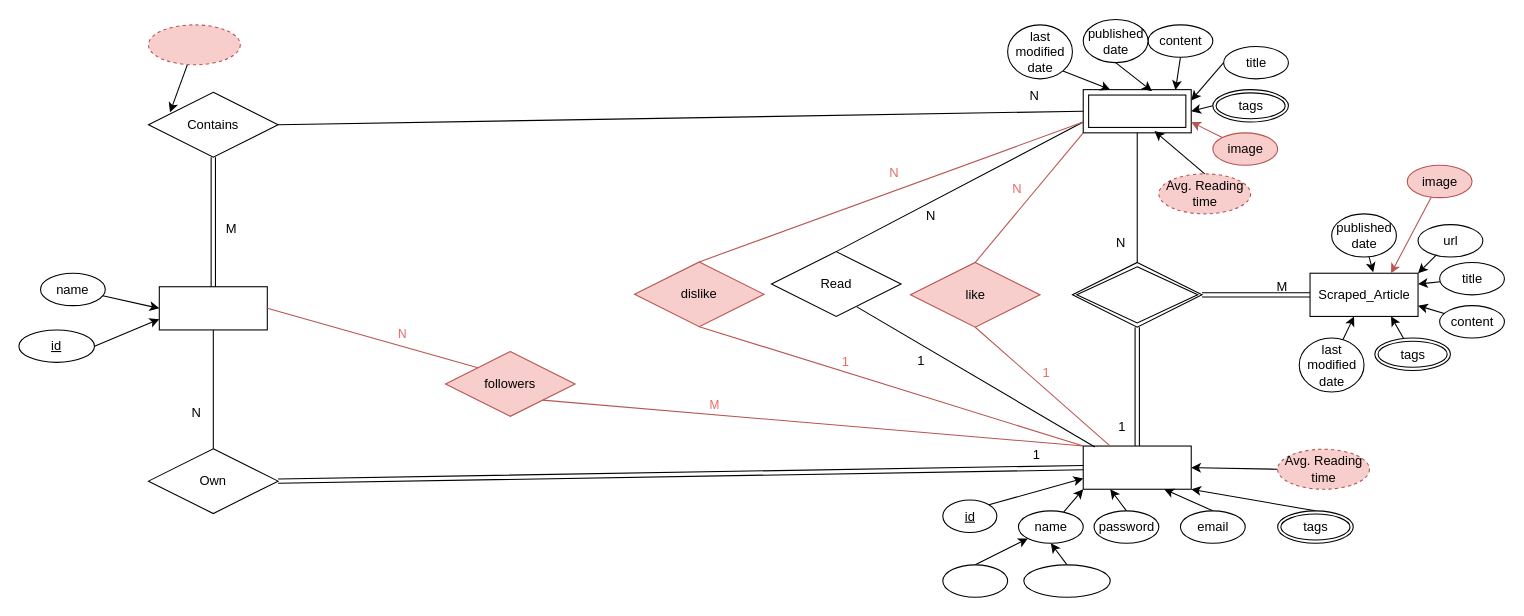
Image size: 1524x616. Some labels were removed from this diagram. The shapes that lost their labels are listed below. From the top down, each one's box as (x1, y1, x2, y2) in pixels, then its label:
(147, 24, 240, 65): Article_count
(1082, 89, 1191, 133): AI_Generated _Article
(158, 286, 267, 330): Playlists
(1071, 261, 1202, 327): Generate_Article
(1082, 445, 1191, 489): User
(942, 564, 1008, 597): first_name
(1023, 564, 1110, 597): second_name
